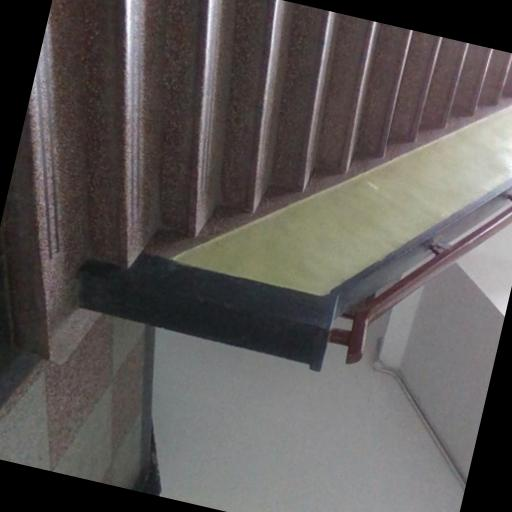stairs: (3, 0, 511, 351)
